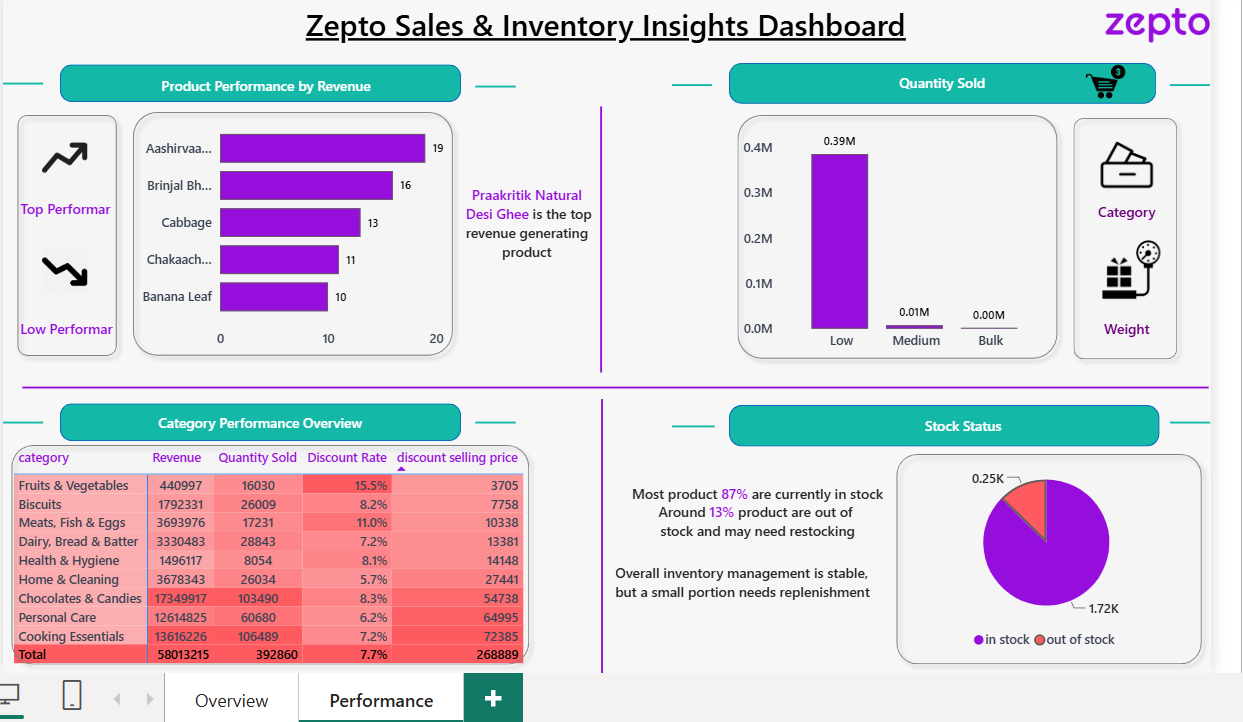

The dashboard page shown, as its layout file describes it:
{"tool":"powerbi","page":{"name":"Performance","canvas":[1280,720],"ordinal":1},"visuals":[{"type":"shape","box":[938.3,479.1,341.6,240.9],"z":0},{"type":"shape","box":[769.6,73.7,453,43.1],"z":1000,"group":"g1"},{"type":"shape","box":[60.9,75.1,425.2,39.7],"z":1000,"group":"g6"},{"type":"shape","box":[5.7,119.1,123.3,273.5],"z":1000},{"type":"shape","box":[769.6,435.1,456.5,43.9],"z":1000,"group":"g2"},{"type":"shape","box":[769.6,119.1,357.2,276.4],"z":2000},{"type":"shape","box":[129,116.2,357.2,276.4],"z":3000},{"type":"shape","box":[60.9,435.1,425.2,39.7],"z":3000,"group":"g5"},{"type":"textbox","box":[228.2,4.3,823.5,70.9],"z":4000},{"type":"textbox","box":[127,610.9,100.1,62.9],"z":5000},{"type":"image","box":[1169.3,4.3,110.6,56.7],"z":6000},{"type":"shape","box":[710.1,429.4,45.4,58.1],"z":7000},{"type":"textbox","box":[879,78.5,232.6,39.9],"z":8000,"group":"g1"},{"type":"textbox","box":[127.5,82.2,303.3,29.8],"z":8000,"group":"g6"},{"type":"shape","box":[1237.3,425.2,42.5,59.5],"z":8000},{"type":"textbox","box":[902.1,440.8,232.7,34],"z":8000,"group":"g2"},{"type":"pieChart","fields":{"Category":["zepto.stock"],"Y":["CountNonNull(zepto.sku_id)"]},"box":[948.2,487.6,316.1,215.4],"z":9000},{"type":"barChart","title":"total revenue by name top","fields":{"Category":["zepto.name"],"Y":["zepto.total revenue"]},"box":[129,119.1,345.8,242.4],"z":11000},{"type":"textbox","box":[121.8,439.4,303.3,29.8],"z":11000,"group":"g5"},{"type":"shape","box":[501.7,68,42.5,59.5],"z":12000},{"type":"shape","box":[0,65.2,42.5,59.5],"z":13000},{"type":"image","box":[21.3,148.8,89.3,48.2],"z":14000},{"type":"image","box":[21.3,270.7,89.3,48.2],"z":15000},{"type":"textbox","box":[0,209.8,121.9,43.9],"z":16000},{"type":"textbox","box":[5.7,338.7,121.9,43.9],"z":17000},{"type":"group","id":"g1","title":"Group 2","box":[769.6,73.7,453.5,43.9],"z":18000},{"type":"shape","box":[1237.3,66.6,42.5,59.5],"z":19000},{"type":"shape","box":[710.1,66.6,42.5,59.5],"z":20000},{"type":"shape","box":[1126.7,122,128,273.9],"z":21000},{"type":"pivotTable","fields":{"Rows":["zepto.category"],"Values":["zepto.total revenue","zepto.total quantity sold","zepto.avg discount %","zepto.total discount selling price"]},"box":[5.7,476.2,561.3,243.8],"z":22000},{"type":"shape","box":[592.4,119.1,85,282],"z":23000},{"type":"shape","box":[20.8,401.9,1257.7,29.8],"z":24000},{"type":"textbox","box":[1155.1,215.4,73.7,34],"z":25000,"group":"g4"},{"type":"shape","box":[0,425.2,42.5,59.5],"z":25000},{"type":"textbox","box":[1155.1,338.8,73.7,32.6],"z":26000,"group":"g3"},{"type":"shape","box":[501.7,425.2,42.5,59.5],"z":26000},{"type":"group","id":"g2","title":"Group 1","box":[769.6,435.1,456.5,43.9],"z":27000},{"type":"shape","box":[0,469.1,566.9,250.9],"z":28000},{"type":"shape","box":[613.7,429.4,42.5,290.6],"z":29000},{"type":"textbox","box":[656.2,514.5,286.3,96.4],"z":30000},{"type":"textbox","box":[644.9,598.1,293.4,59.5],"z":31000},{"type":"textbox","box":[480.5,197,150.2,92.1],"z":32000},{"type":"columnChart","fields":{"Category":["zepto.category"],"Y":["zepto.total quantity sold"]},"box":[778.4,117.6,362,273.9],"z":34000},{"type":"image","box":[1131,73.7,76.5,39.7],"z":35000},{"type":"group","id":"g3","title":"Group 4","box":[1155.1,260.8,83.6,110.6],"z":36000},{"type":"group","id":"g4","title":"Group 3","box":[1155.1,153.3,73.7,96.1],"z":37000},{"type":"group","id":"g5","title":"Group 6","box":[60.9,75.1,425.2,399.7],"z":38000},{"type":"image","box":[1155.1,260.8,83.6,62.4],"z":40500,"group":"g3"},{"type":"image","box":[1162.4,153.3,58,56.6],"z":42000,"group":"g4"},{"type":"group","id":"g6","title":"Group 5","box":[60.9,75.1,425.2,39.7],"z":42002,"group":"g5"}]}

Visuals, with their boxes on the page's 1280x720 design canvas (x1, y1, x2, y2). These are canvas units, not pixel positions in the 1243x722 screenshot, which may show the page scaled, cropped or inside an application window:
shape: left=938, top=479, right=1280, bottom=720
shape: left=770, top=74, right=1223, bottom=117
shape: left=61, top=75, right=486, bottom=115
shape: left=6, top=119, right=129, bottom=393
shape: left=770, top=435, right=1226, bottom=479
shape: left=770, top=119, right=1127, bottom=396
shape: left=129, top=116, right=486, bottom=393
shape: left=61, top=435, right=486, bottom=475
textbox: left=228, top=4, right=1052, bottom=75
textbox: left=127, top=611, right=227, bottom=674
image: left=1169, top=4, right=1280, bottom=61
shape: left=710, top=429, right=756, bottom=488
textbox: left=879, top=78, right=1112, bottom=118
textbox: left=128, top=82, right=431, bottom=112
shape: left=1237, top=425, right=1280, bottom=485
textbox: left=902, top=441, right=1135, bottom=475
pieChart - zepto.stock x CountNonNull(zepto.sku_id): left=948, top=488, right=1264, bottom=703
"total revenue by name top" barChart: left=129, top=119, right=475, bottom=362
textbox: left=122, top=439, right=425, bottom=469
shape: left=502, top=68, right=544, bottom=128
shape: left=0, top=65, right=42, bottom=125
image: left=21, top=149, right=111, bottom=197
image: left=21, top=271, right=111, bottom=319
textbox: left=0, top=210, right=122, bottom=254
textbox: left=6, top=339, right=128, bottom=383
"Group 2" group: left=770, top=74, right=1223, bottom=118
shape: left=1237, top=67, right=1280, bottom=126
shape: left=710, top=67, right=753, bottom=126
shape: left=1127, top=122, right=1255, bottom=396
pivotTable - zepto.category x zepto.total revenue: left=6, top=476, right=567, bottom=720
shape: left=592, top=119, right=677, bottom=401
shape: left=21, top=402, right=1278, bottom=432
textbox: left=1155, top=215, right=1229, bottom=249
shape: left=0, top=425, right=42, bottom=485
textbox: left=1155, top=339, right=1229, bottom=371
shape: left=502, top=425, right=544, bottom=485
"Group 1" group: left=770, top=435, right=1226, bottom=479
shape: left=0, top=469, right=567, bottom=720
shape: left=614, top=429, right=656, bottom=720
textbox: left=656, top=514, right=942, bottom=611
textbox: left=645, top=598, right=938, bottom=658
textbox: left=480, top=197, right=631, bottom=289
columnChart - zepto.category x zepto.total quantity sold: left=778, top=118, right=1140, bottom=392
image: left=1131, top=74, right=1208, bottom=113
"Group 4" group: left=1155, top=261, right=1239, bottom=371
"Group 3" group: left=1155, top=153, right=1229, bottom=249
"Group 6" group: left=61, top=75, right=486, bottom=475
image: left=1155, top=261, right=1239, bottom=323
image: left=1162, top=153, right=1220, bottom=210
"Group 5" group: left=61, top=75, right=486, bottom=115
